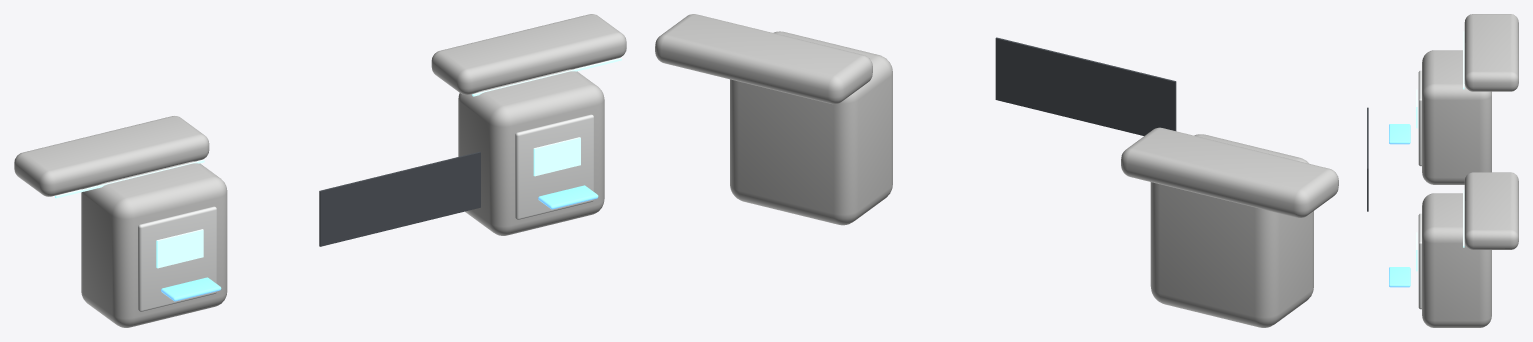
The model's file is mandegar_experience_pods_v1.glb.
The picture shows the model from 3 angles, left to right: view 1: azimuth 30°, elevation 25°; view 2: azimuth 150°, elevation 25°; view 3: azimuth 270°, elevation 25°; orthographic projection. The views are drawn at different scales.
Parts seen in each view (by area): view 1: booth_left_shell, booth_right_shell, led_central_media_21x9, wing_right_canopy, wing_left_canopy, booth_left_portal, booth_right_portal, led_left_screen_16x9, led_right_screen_16x9, touch_right_surface, touch_left_surface; view 2: booth_right_shell, booth_left_shell, wing_right_canopy, wing_left_canopy, led_central_media_21x9; view 3: booth_left_shell, booth_right_shell, wing_right_canopy, wing_left_canopy, touch_left_surface, touch_right_surface, booth_left_portal, booth_right_portal, led_central_media_21x9.
Part boxes in pixels (x1,y1,x2,y2): booth_left_shell: [81, 161, 227, 327]; booth_right_shell: [458, 69, 604, 235]; led_central_media_21x9: [319, 151, 480, 246]; wing_right_canopy: [431, 14, 626, 94]; wing_left_canopy: [14, 116, 209, 196]; booth_left_portal: [138, 206, 216, 311]; booth_right_portal: [515, 114, 593, 219]; led_left_screen_16x9: [156, 229, 203, 268]; led_right_screen_16x9: [533, 137, 580, 176]; touch_right_surface: [538, 185, 598, 209]; touch_left_surface: [161, 277, 221, 301]; booth_right_shell: [730, 31, 892, 225]; booth_left_shell: [1150, 134, 1313, 327]; wing_right_canopy: [655, 14, 872, 104]; wing_left_canopy: [1121, 127, 1338, 217]; led_central_media_21x9: [995, 37, 1176, 135]; booth_left_shell: [1422, 50, 1491, 184]; booth_right_shell: [1422, 193, 1491, 327]; wing_right_canopy: [1464, 172, 1518, 249]; wing_left_canopy: [1464, 14, 1518, 91]; touch_left_surface: [1389, 124, 1410, 144]; touch_right_surface: [1389, 267, 1410, 287]; booth_left_portal: [1418, 70, 1421, 166]; booth_right_portal: [1418, 213, 1421, 309]; led_central_media_21x9: [1367, 107, 1368, 211].
Bounding box in the file's own units: 11.65 × 2.86 × 3.36.
